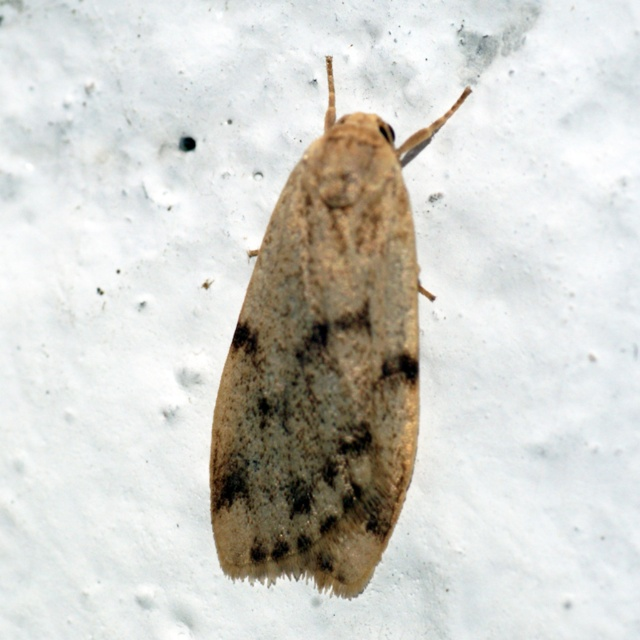Moths and butterflies: (208, 51, 477, 598)
